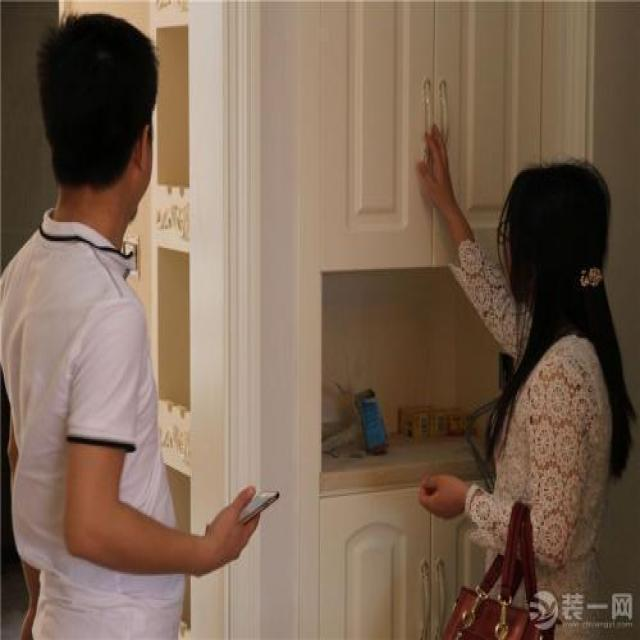no-helmet: (35, 12, 161, 243), (496, 147, 610, 335)
